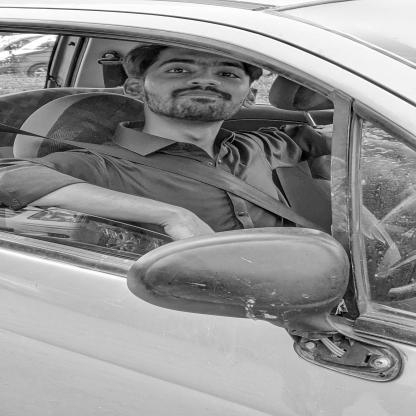seatbelt: (112, 47, 278, 218)
